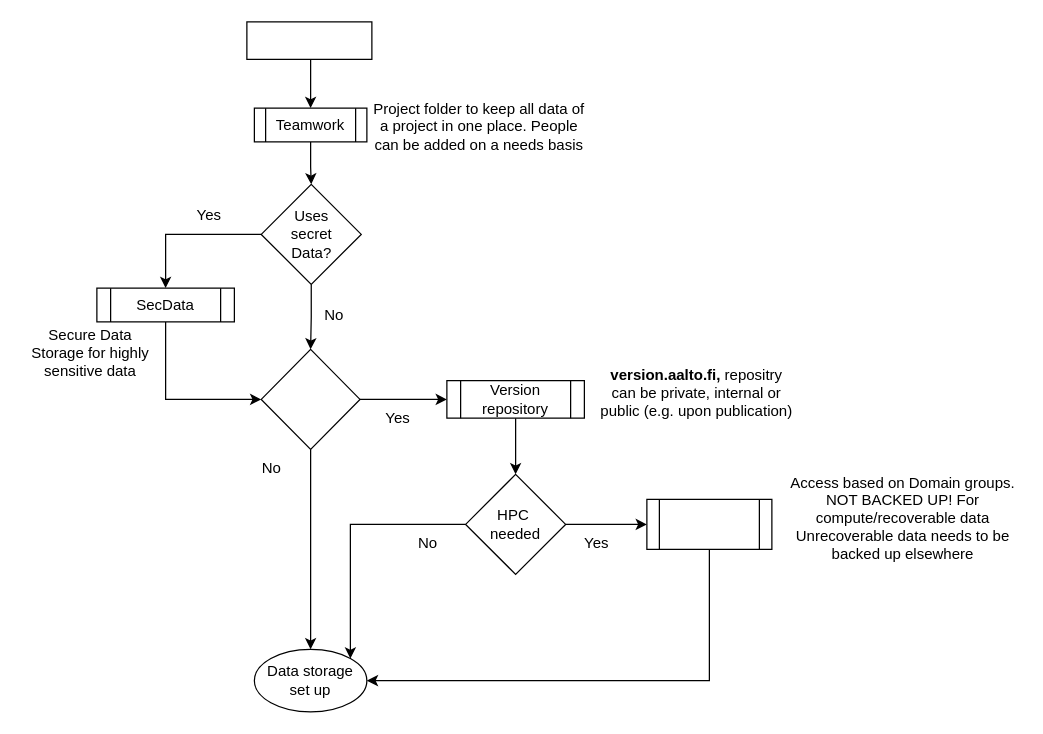
Image size: 1043x734. Some labels were removed from this diagram. Each missing label, with the centre of its shape:
"Code Involved" belongs at point 310,398.
"Project Start" belongs at point 309,40.
"Triton project folder" belongs at point 709,523.
